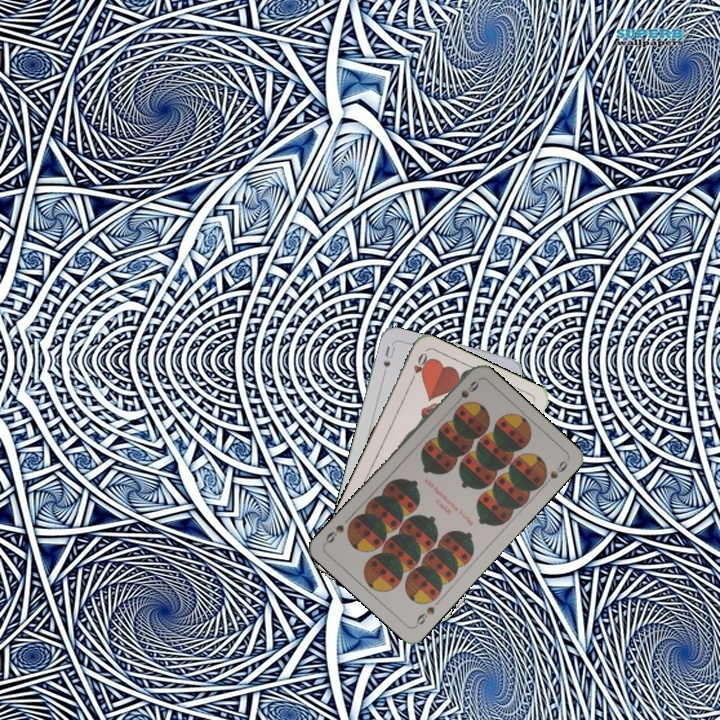HO: (406, 349, 431, 387)
S9: (449, 377, 482, 409), (411, 602, 438, 630)
SU: (379, 342, 398, 370)
